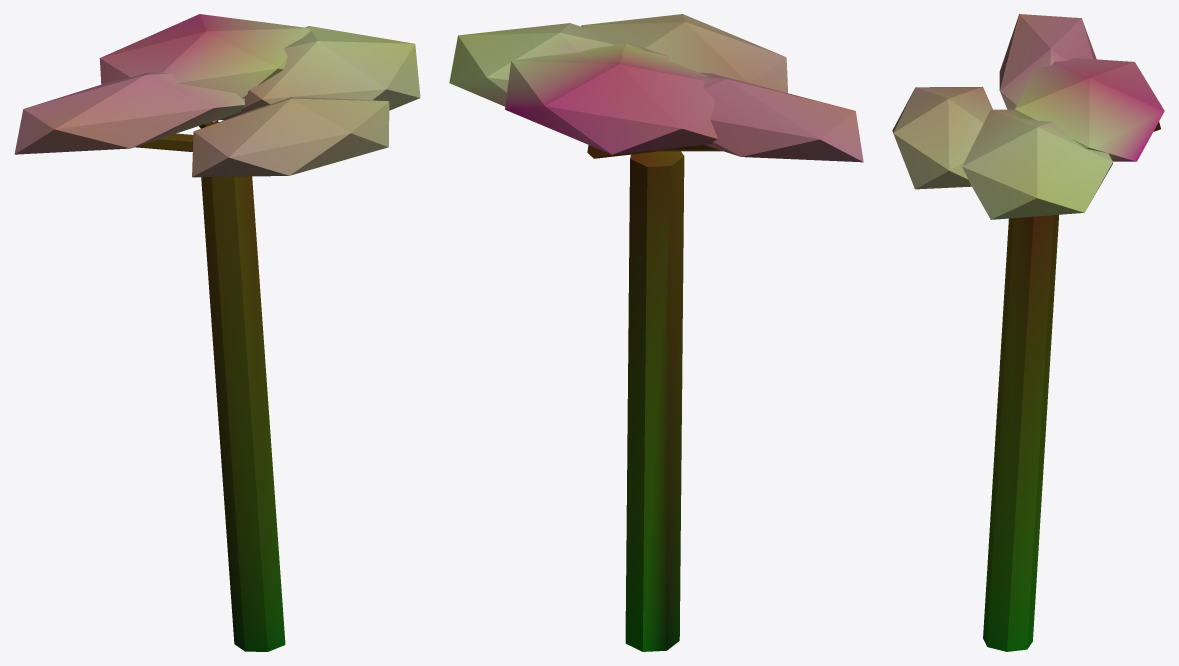
Rendered from savanna_01.glb.
3 renders of one model, left to right at view 1: azimuth 30°, elevation 25°; view 2: azimuth 150°, elevation 25°; view 3: azimuth 270°, elevation 25°, orthographic. The views are drawn at different scales.
Parts seen in each view (by area): view 1: savanna_01; view 2: savanna_01; view 3: savanna_01.
Part boxes in pixels (<box>): savanna_01: <box>14,14,420,651</box>; savanna_01: <box>449,14,863,651</box>; savanna_01: <box>892,14,1164,651</box>.
Bounding box in the file's own units: 2.72 × 3.86 × 1.7.
